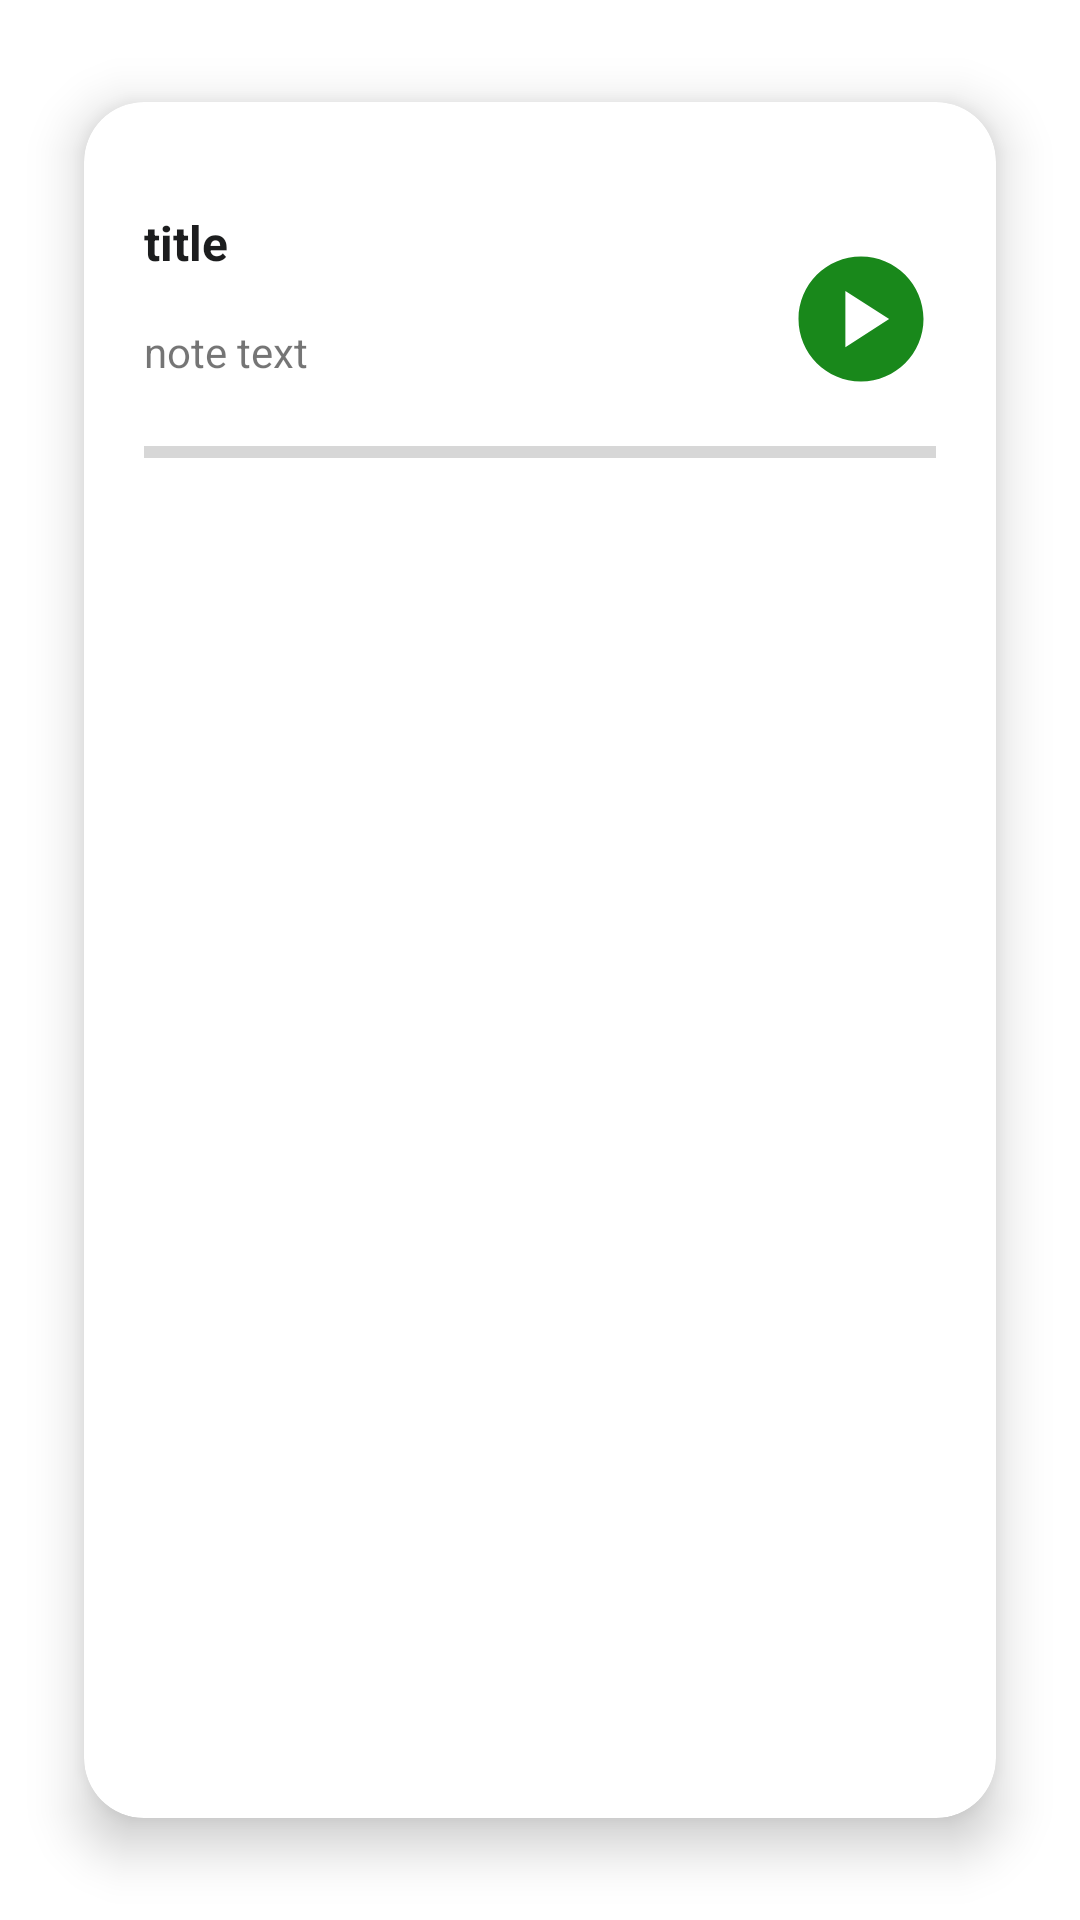

Screen size 1080px×1920px. Icon name, then its box in pixels as bbox=[x1, y1, x2, y2]:
play: bbox=[798, 256, 924, 382]
